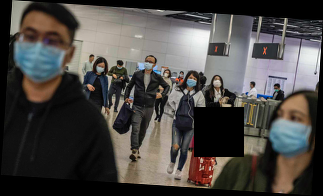with_mask: (12, 26, 67, 84), (270, 107, 312, 158), (186, 75, 197, 89), (144, 59, 154, 71), (212, 77, 222, 88), (95, 64, 105, 74), (163, 71, 169, 78), (274, 86, 279, 93), (116, 65, 123, 70), (249, 82, 253, 90), (178, 73, 183, 79)
without_mask: (89, 56, 95, 63)
